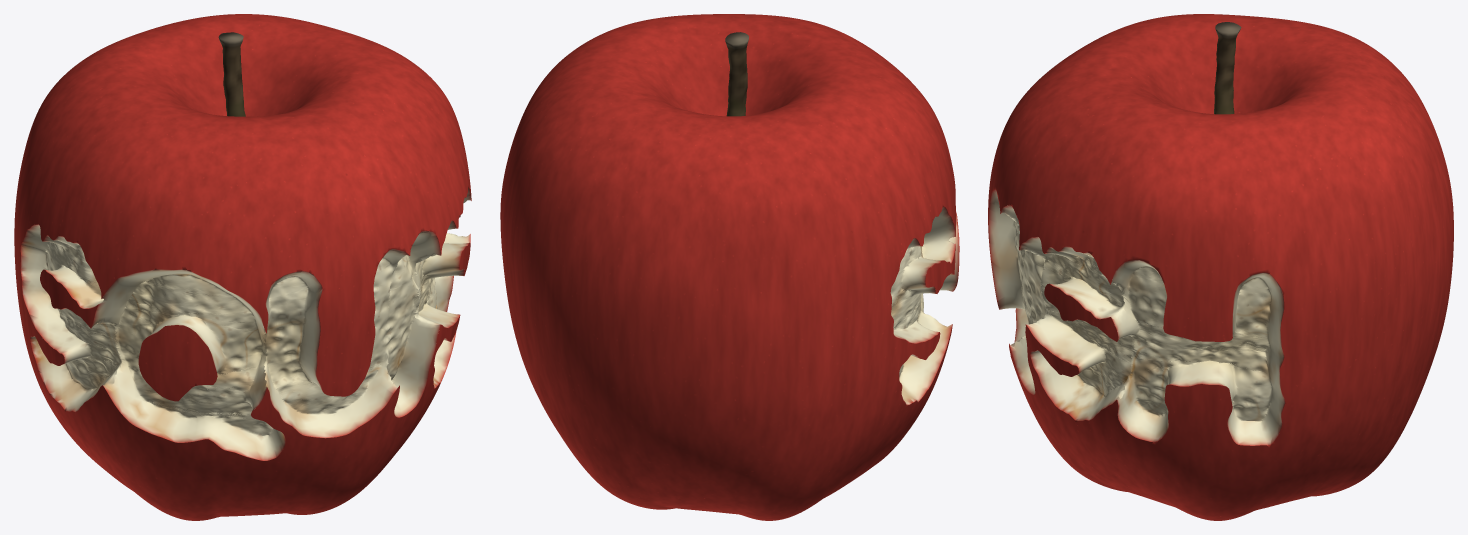
Rendered from pomme_apple_bite.glb.
3 renders of one model, left to right at view 1: azimuth 30°, elevation 25°; view 2: azimuth 150°, elevation 25°; view 3: azimuth 270°, elevation 25°, orthographic.
Parts seen in each view (by area): view 1: Apple, Stem; view 2: Apple, Stem; view 3: Apple, Stem.
Boxes of the visible parts, x1,y1,x2,y2 form: Apple: (14,14,471,520); Stem: (218,32,245,116); Apple: (500,14,959,520); Stem: (725,32,748,116); Apple: (988,14,1453,520); Stem: (1214,22,1241,114).
Bounding box in the file's own units: 2 × 2.17 × 2.03.
3 materials, 1 textured.
